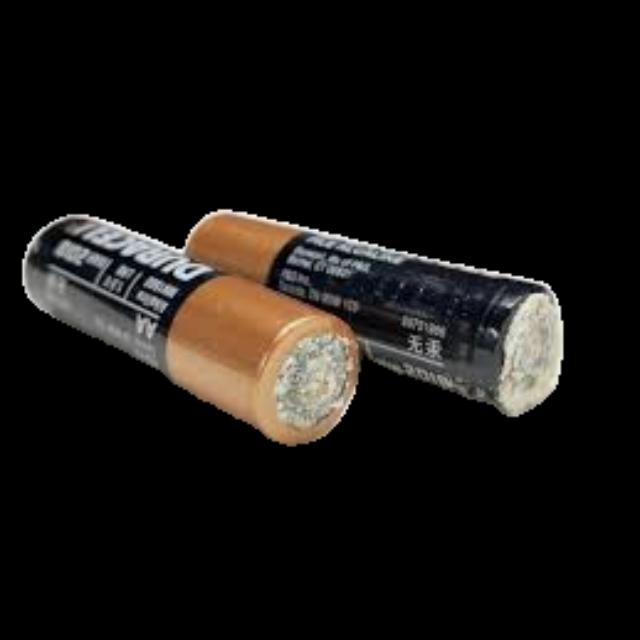Battery: (22, 213, 363, 446)
